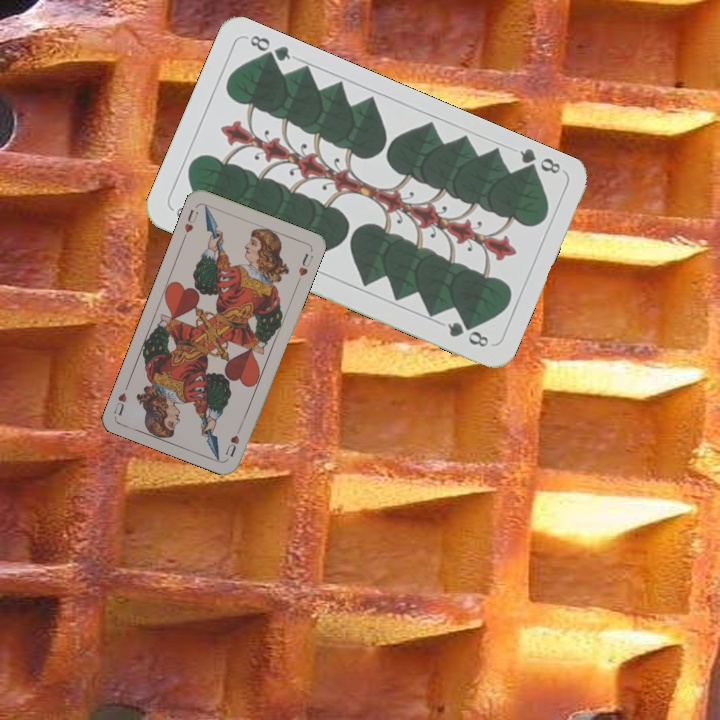G8: (515, 145, 563, 179)
HU: (221, 422, 244, 459), (180, 205, 201, 235)
